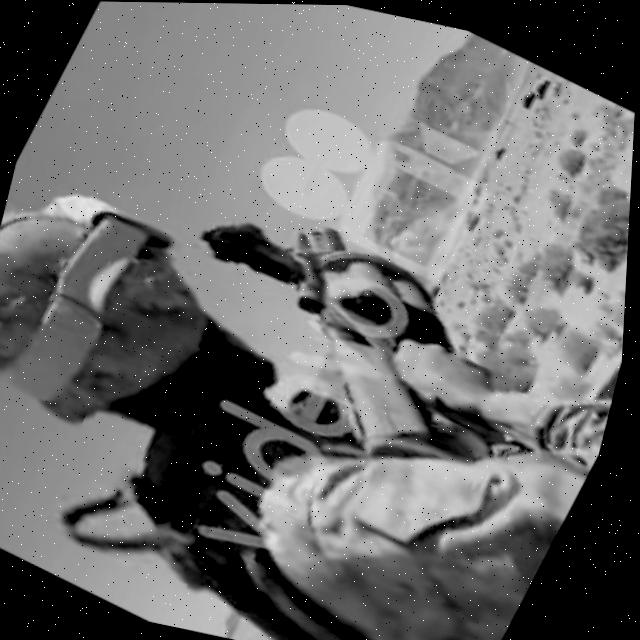rocket: (128, 168, 572, 501)
